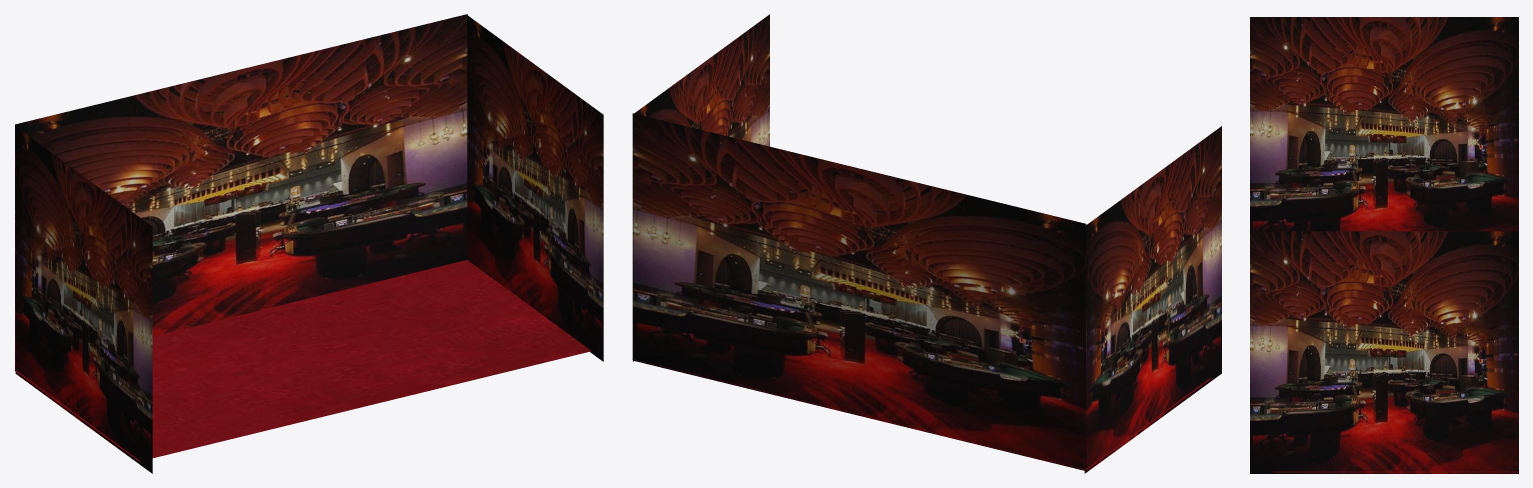
File: room.glb
3 views of the same model, side by side, from view 1: azimuth 30°, elevation 25°; view 2: azimuth 150°, elevation 25°; view 3: azimuth 270°, elevation 25° (orthographic). The views are drawn at different scales.
Visible parts, largest first — view 1: wall, floor, sideWallLeft, sideWallRight; view 2: wall, sideWallLeft, sideWallRight, floor; view 3: sideWallRight, sideWallLeft, floor.
Part boxes in pixels (x1,y1,x2,y2): wall: [15, 14, 467, 371]; floor: [14, 260, 591, 461]; sideWallLeft: [15, 127, 152, 473]; sideWallRight: [467, 15, 603, 361]; wall: [632, 113, 1086, 470]; sideWallLeft: [1084, 126, 1221, 473]; sideWallRight: [633, 14, 769, 361]; floor: [633, 359, 1211, 469]; sideWallRight: [1250, 231, 1518, 473]; sideWallLeft: [1250, 17, 1518, 231]; floor: [1273, 471, 1518, 472].
Size of the model in its own units: 5.02 by 2.64 by 2.62.
2 materials, 2 textured.
